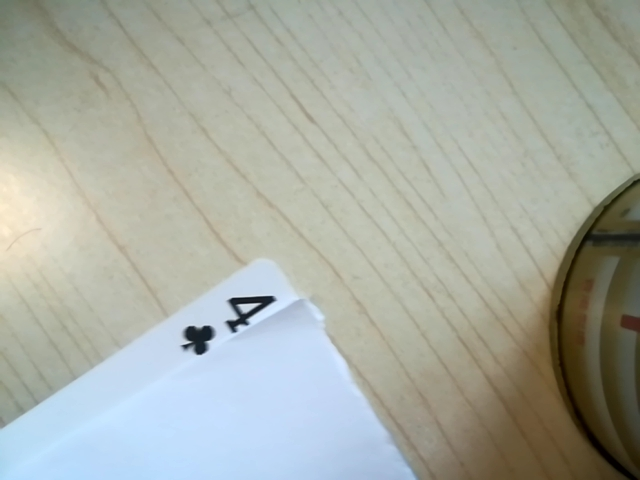mh 4: (162, 287, 294, 360)
